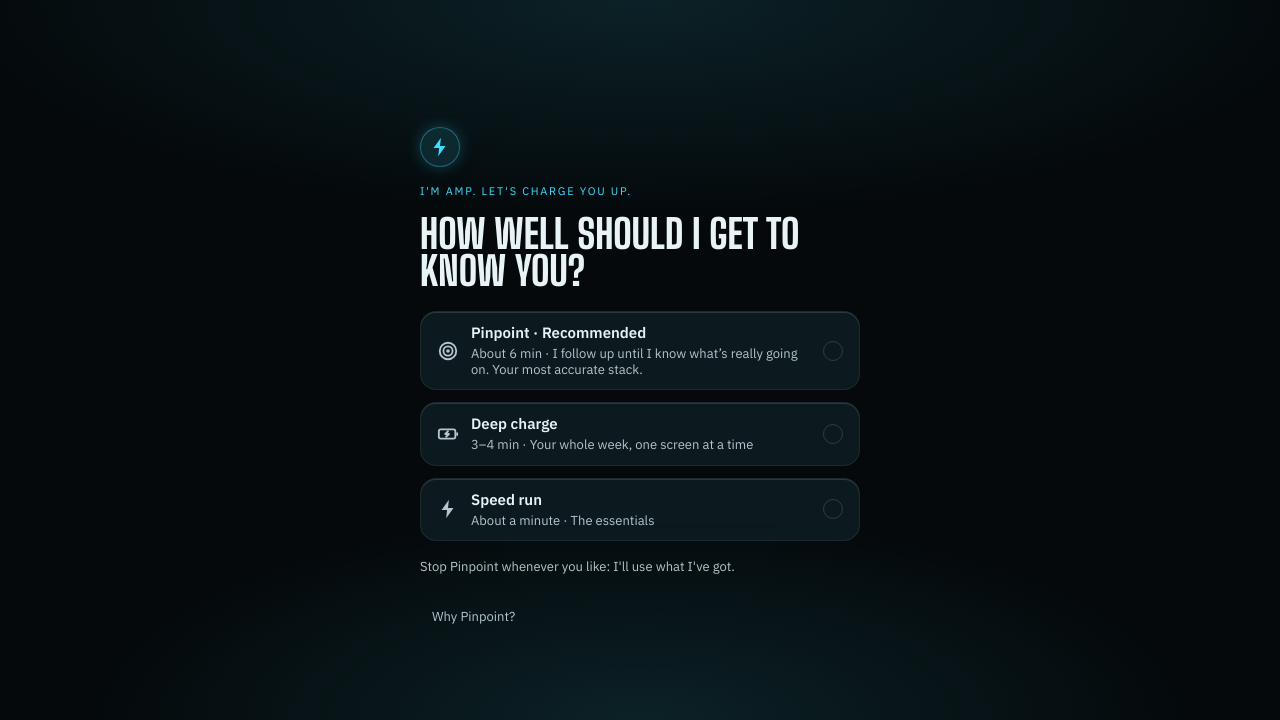
it: the route choice › offers three routes, Pinpoint first and recommended, and says why
Click the button "Why Pinpoint?" at (474, 617), box [420,593,527,641]
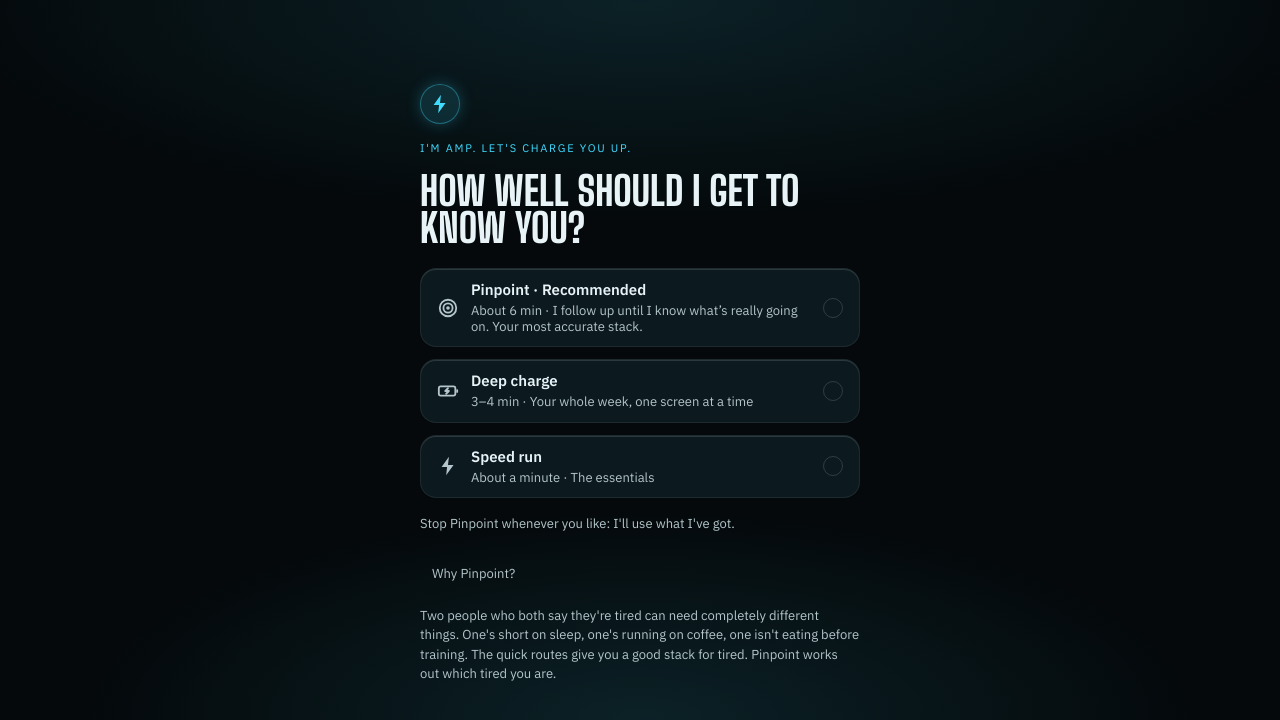
Check: the text "which tired you are" is shown, box [420,607,859,682]
